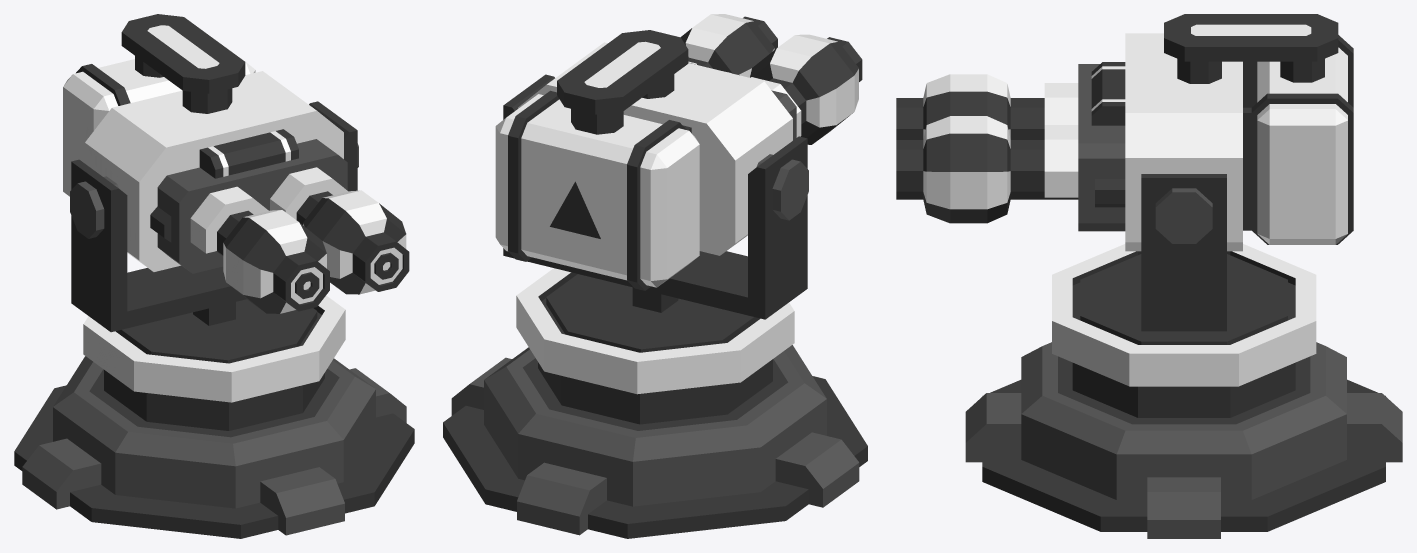
File: Toxin_2.fbx
3 renders of one model, left to right at view 1: azimuth 30°, elevation 25°; view 2: azimuth 150°, elevation 25°; view 3: azimuth 270°, elevation 25°, orthographic. The views are drawn at different scales.
Visible parts, largest first — view 1: Body_Mesh, Base_Mesh, Upper_Mesh; view 2: Body_Mesh, Base_Mesh, Upper_Mesh; view 3: Body_Mesh, Base_Mesh, Upper_Mesh.
Boxes of the visible parts, left/top/right/bottom form: Body_Mesh: left=63, top=14, right=409, bottom=313; Base_Mesh: left=14, top=356, right=414, bottom=538; Upper_Mesh: left=71, top=101, right=357, bottom=430; Body_Mesh: left=495, top=14, right=862, bottom=290; Base_Mesh: left=443, top=345, right=867, bottom=538; Upper_Mesh: left=503, top=74, right=807, bottom=424; Body_Mesh: left=896, top=14, right=1353, bottom=251; Base_Mesh: left=965, top=342, right=1402, bottom=538; Upper_Mesh: left=1052, top=174, right=1316, bottom=417.
Bounding box in the file's own units: 1.3 × 1.37 × 1.51.
